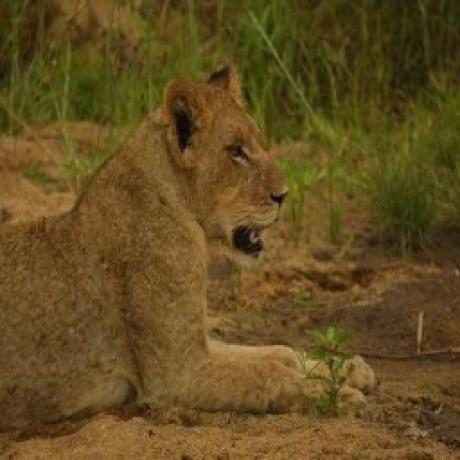Lion: (0, 55, 385, 434)
